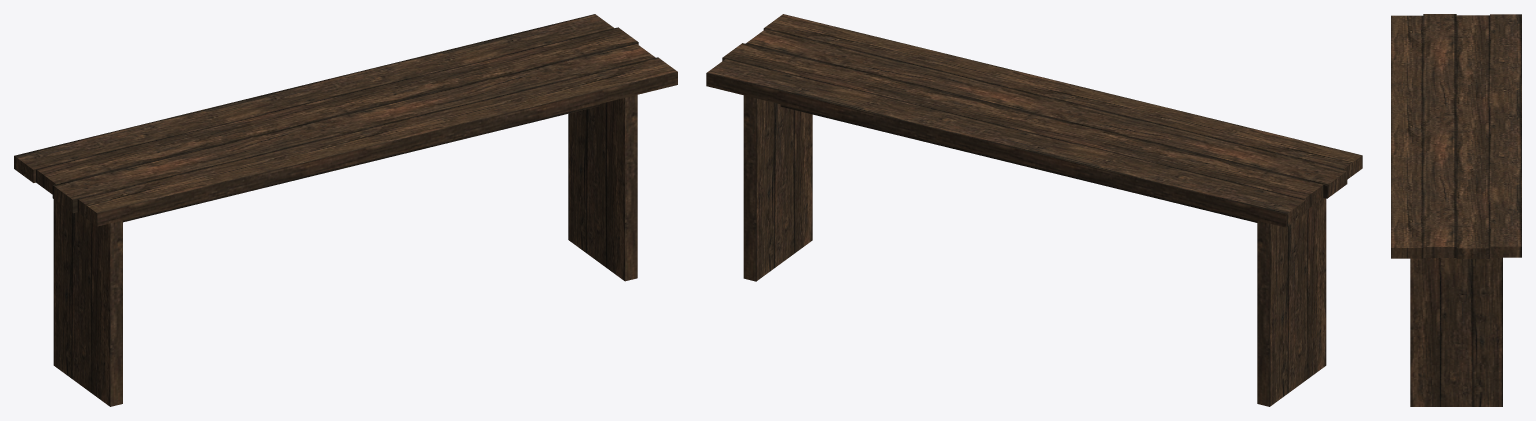
The model's file is bench_mx_1.obj.
3 views of the same model, side by side, from view 1: azimuth 30°, elevation 25°; view 2: azimuth 150°, elevation 25°; view 3: azimuth 270°, elevation 25° (orthographic). The views are drawn at different scales.
Visible parts, largest first — view 1: bench_mx_1; view 2: bench_mx_1; view 3: bench_mx_1.
Boxes of the visible parts, box(x1,y1,x2,y2) form: bench_mx_1: box(14, 14, 677, 406); bench_mx_1: box(706, 14, 1362, 406); bench_mx_1: box(1391, 14, 1521, 406).
Bounding box in the file's own units: 1.86 × 0.63 × 0.438.
